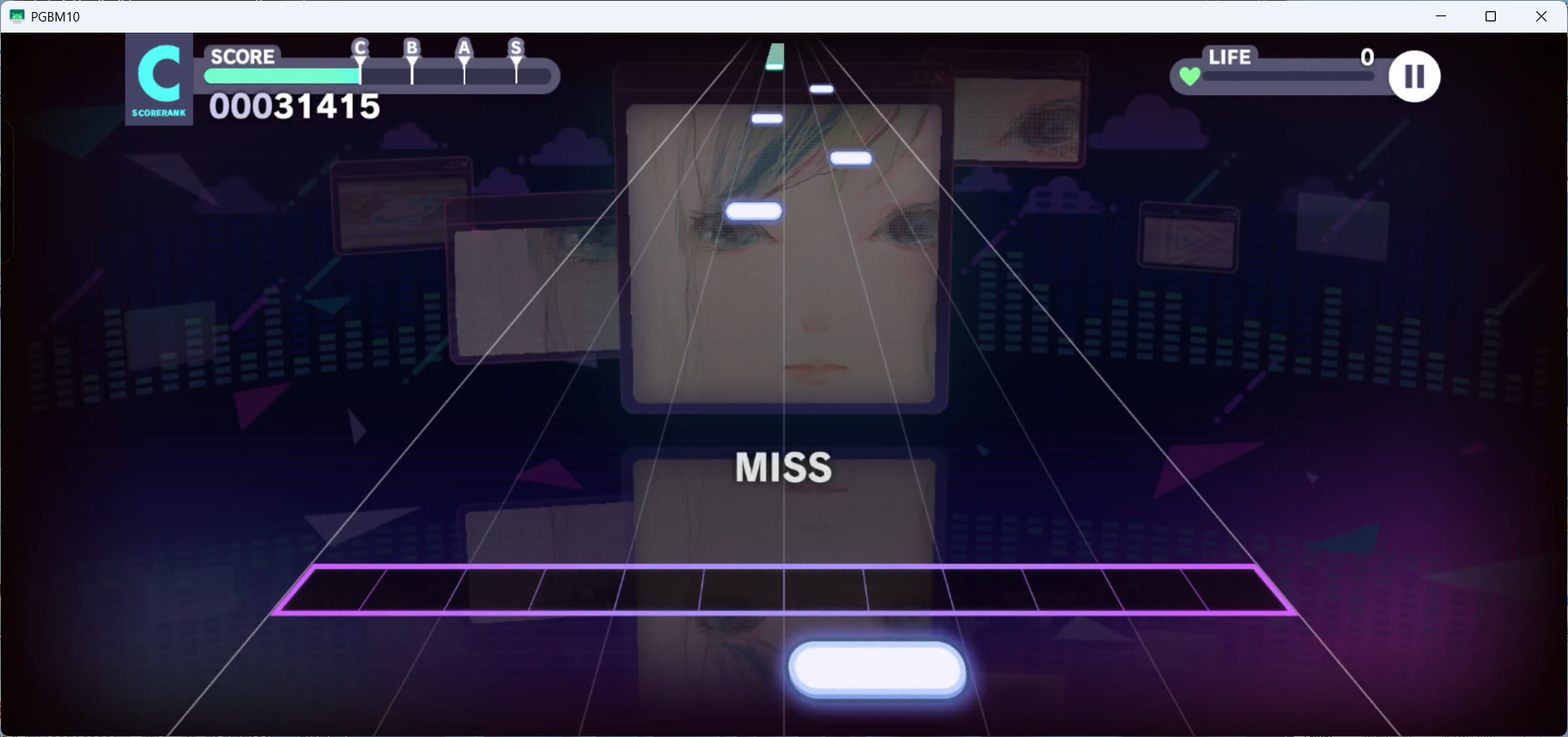hold: (766, 44, 784, 63)
tap: (787, 642, 967, 698), (726, 202, 782, 220), (830, 152, 872, 165), (751, 114, 783, 124), (810, 85, 833, 93), (765, 63, 783, 70)
